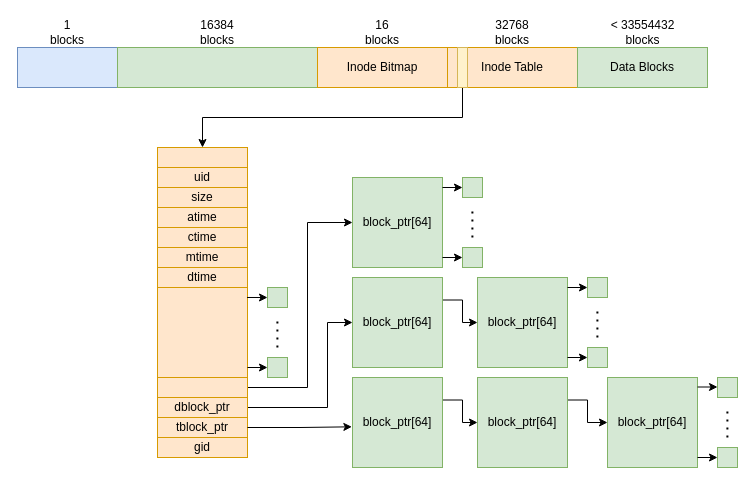
Some shapes in this 755 by 485 pixel diagram are drawn without their labels. Here are the shapes that lost their labels. From the top down, the centre of each, then its label:
the point at 67,67: Super Block
the point at 217,67: Block Bitmap
the point at 202,157: mode
the point at 202,332: block_ptr[12]
the point at 202,387: sblock_ptr
